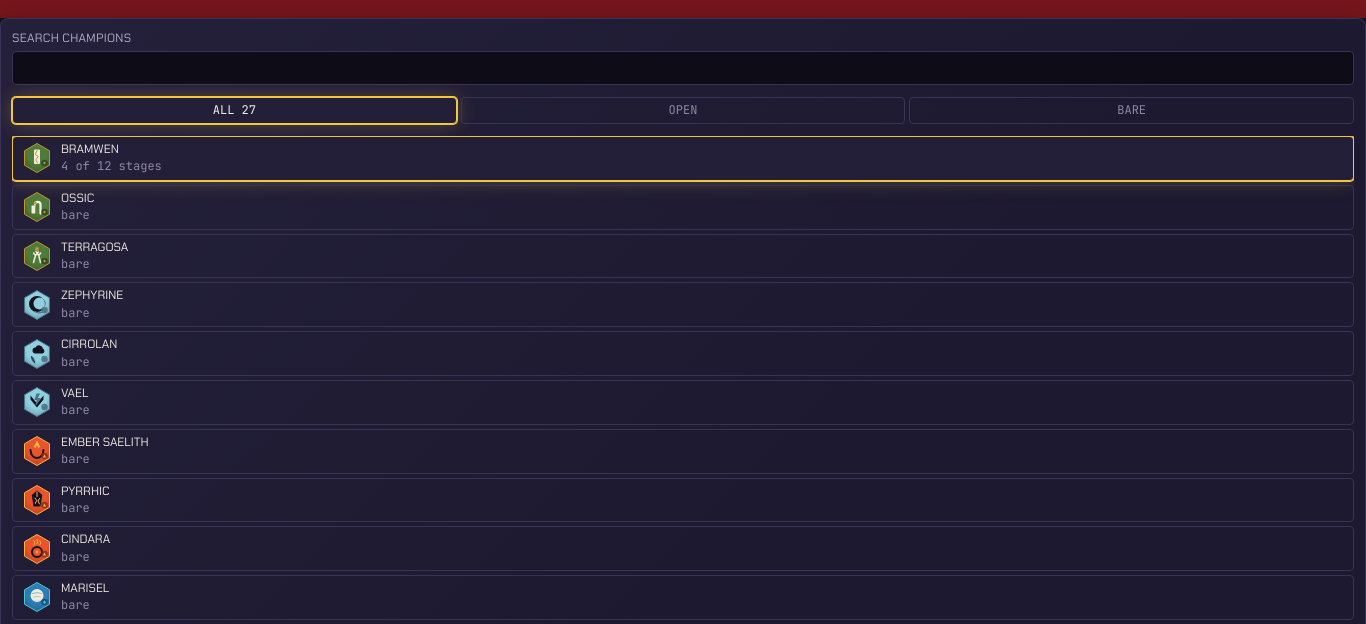
it: the confirmation › prints the server’s refund, never one it computed
Expected: the radio button labelled "All 27" is shown, x1=12 y1=97 x2=457 y2=124
Click the button "Bramwen 4 of 12 stages": coordinates (37, 158) x1=12 y1=136 x2=1354 y2=181
(page scrolled)
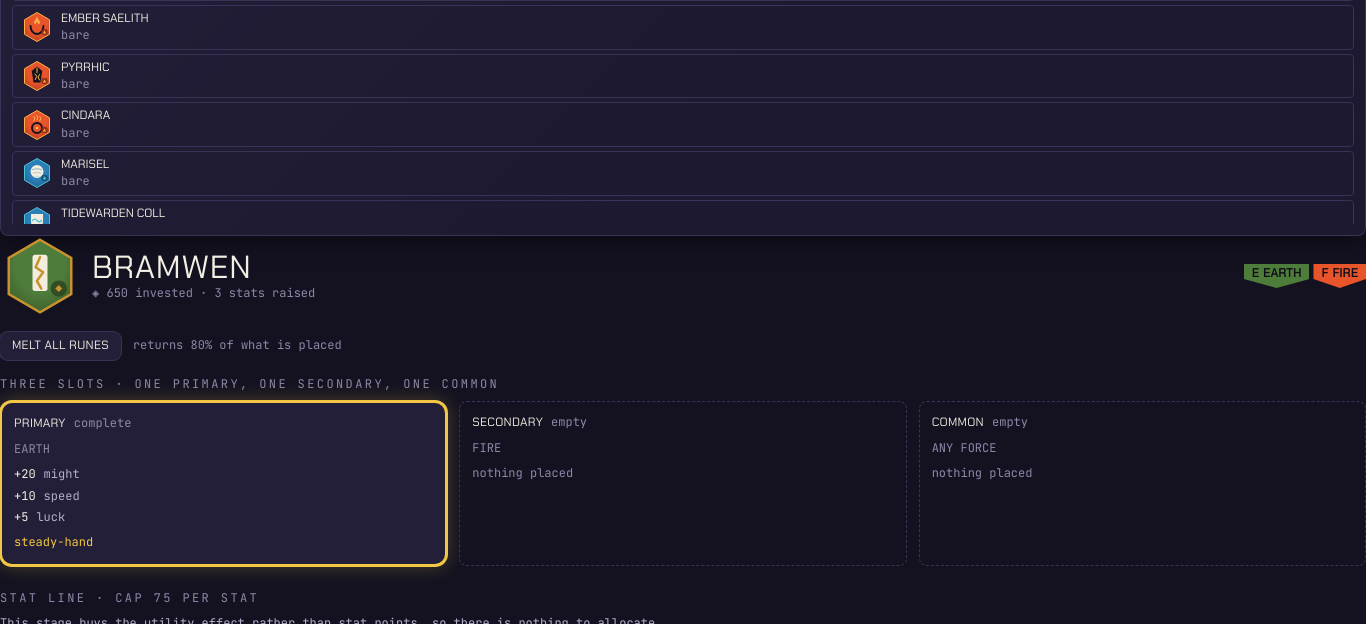
Click the button "Melt all runes": coordinates (60, 346) x1=0 y1=332 x2=121 y2=360
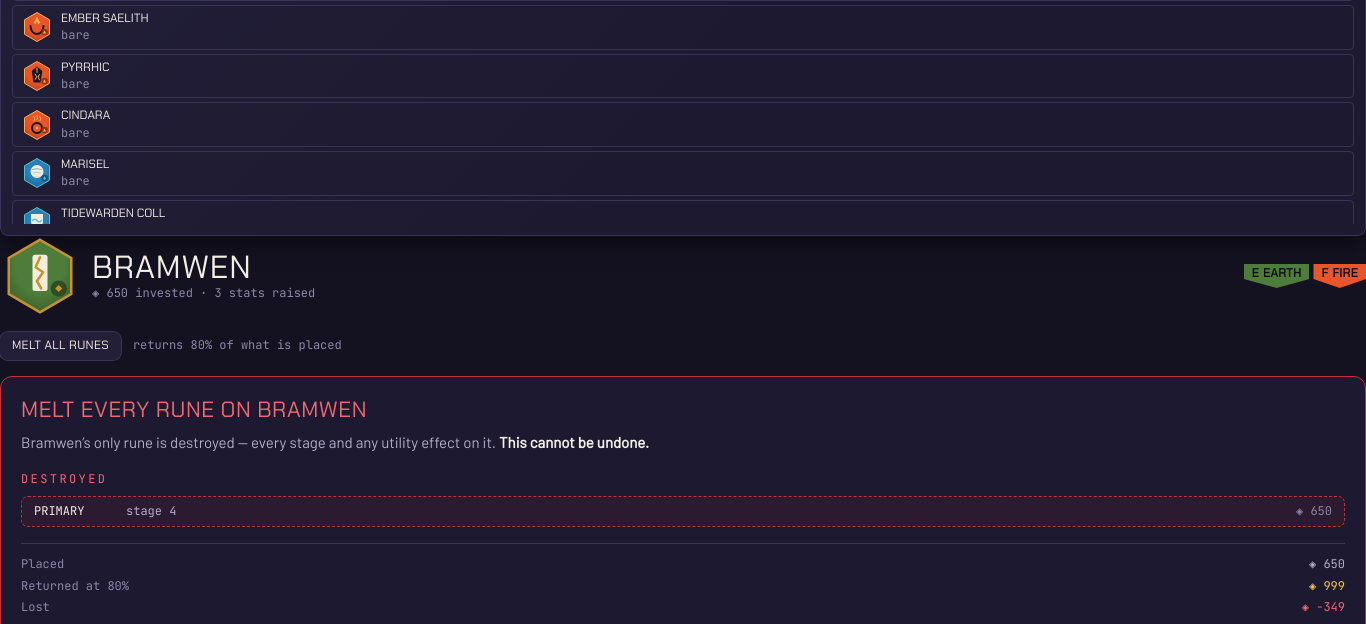
Expected: the dialog shows "999", x1=1323 y1=578 x2=1345 y2=594
